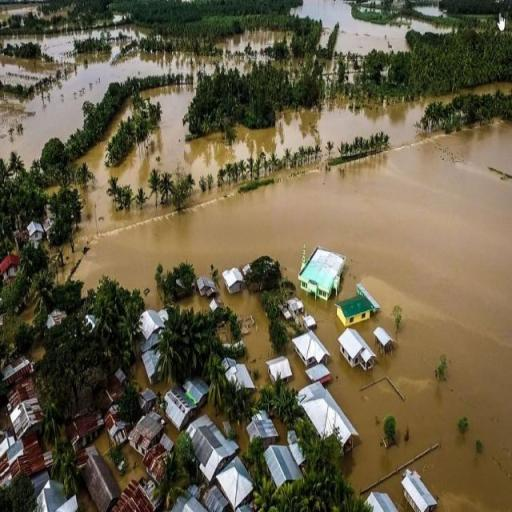flood: (66, 120, 512, 512), (74, 82, 512, 222), (0, 44, 252, 167), (294, 0, 410, 55), (219, 280, 273, 388), (0, 31, 101, 58), (0, 54, 66, 86), (286, 343, 312, 392), (0, 1, 53, 19), (178, 295, 210, 314), (410, 20, 452, 34), (111, 26, 151, 37), (414, 6, 443, 15)
house: (294, 379, 358, 457), (182, 412, 236, 482), (301, 242, 346, 306), (262, 442, 303, 500), (85, 448, 120, 508), (332, 284, 380, 326), (338, 322, 378, 372), (406, 11, 461, 47), (6, 385, 43, 438), (398, 465, 439, 512), (245, 409, 281, 460), (290, 328, 332, 370), (32, 477, 83, 511), (131, 415, 163, 458), (160, 390, 196, 428), (221, 358, 255, 396), (136, 349, 172, 384), (316, 20, 337, 70), (266, 353, 292, 387), (364, 490, 401, 512), (2, 246, 20, 288), (140, 310, 165, 337), (222, 266, 243, 296), (106, 414, 127, 444), (26, 220, 46, 242), (196, 276, 214, 298)
